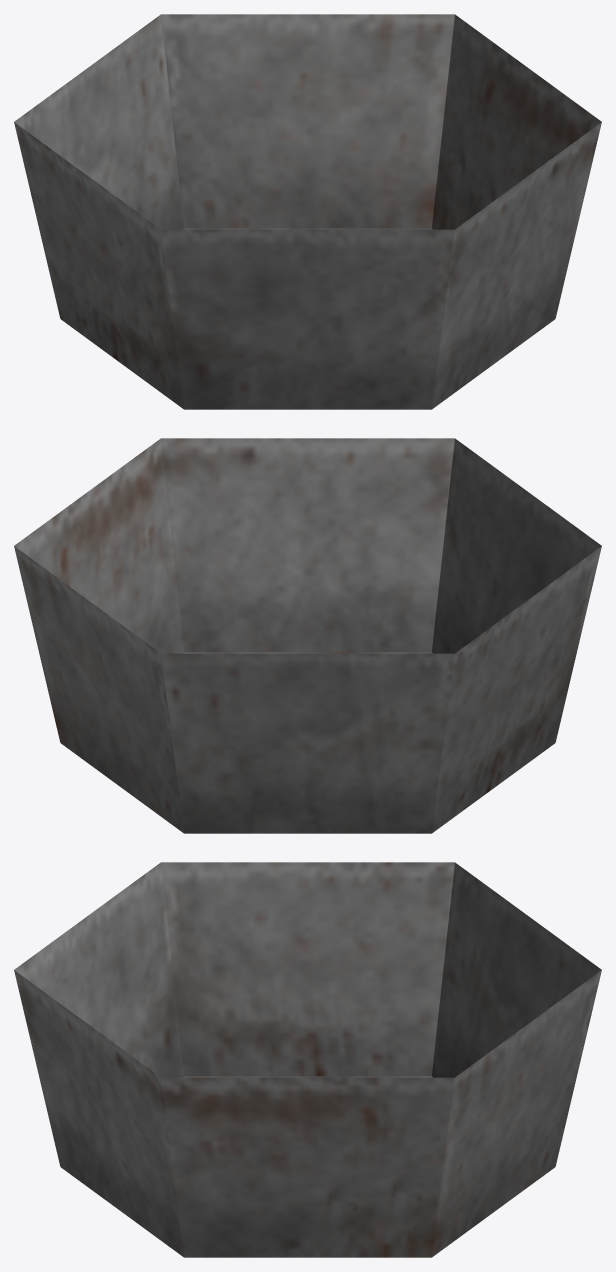
File: Bowl_2.fbx
3 renders of one model, top to bottom at view 1: azimuth 30°, elevation 25°; view 2: azimuth 150°, elevation 25°; view 3: azimuth 270°, elevation 25°, orthographic.
Visible parts, largest first — view 1: Bowl_2; view 2: Bowl_2; view 3: Bowl_2.
Part boxes in pixels (x1,y1,x2,y2): Bowl_2: (14,14,601,409); Bowl_2: (14,438,601,833); Bowl_2: (14,862,601,1257).
Bounding box in the file's own units: 17.18 × 7.34 × 19.84.
